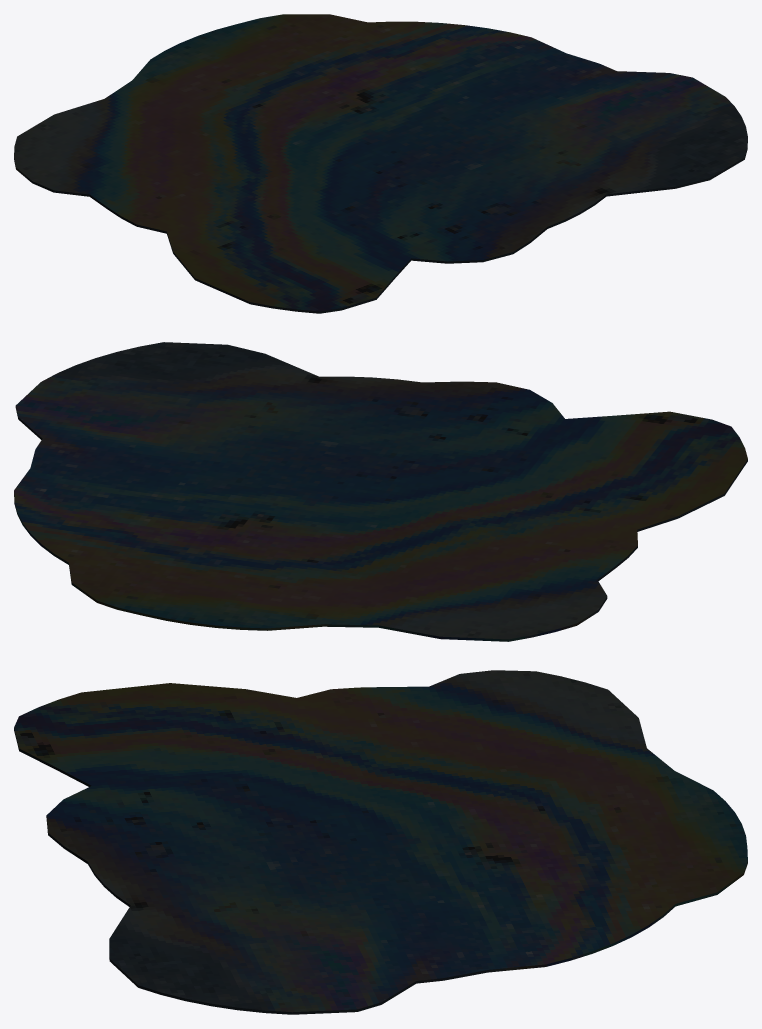
File: oilspill.fbx
3 views of the same model, one above another, from view 1: azimuth 30°, elevation 25°; view 2: azimuth 150°, elevation 25°; view 3: azimuth 270°, elevation 25° (orthographic). The views are drawn at different scales.
Parts seen in each view (by area): view 1: Circle; view 2: Circle; view 3: Circle.
Part boxes in pixels (left/top/right/bottom): Circle: left=14, top=14, right=747, bottom=313; Circle: left=14, top=342, right=747, bottom=641; Circle: left=14, top=670, right=747, bottom=1014.
Bounding box in the file's own units: 282 × 1 × 256.
1 material, 1 textured.
